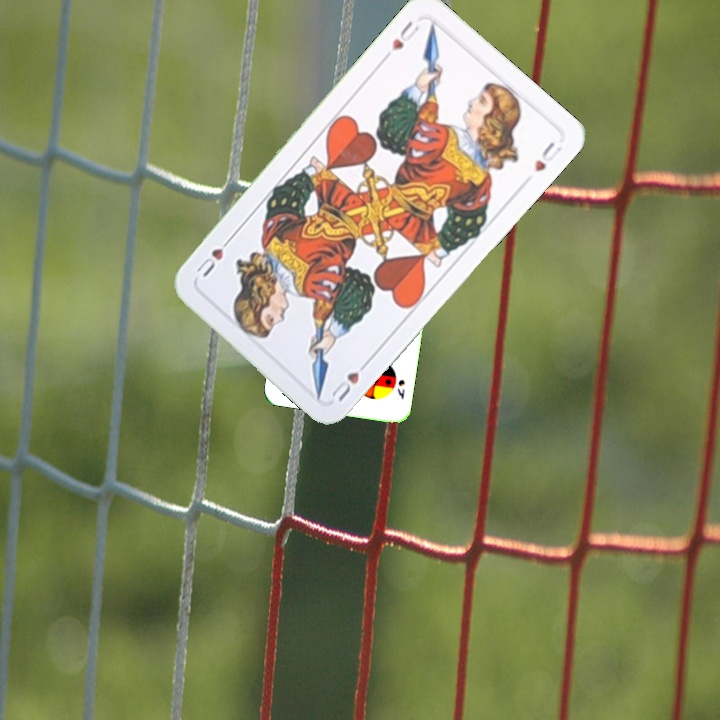HU: (327, 355, 373, 405), (379, 17, 422, 63)
SK: (393, 375, 407, 402)
